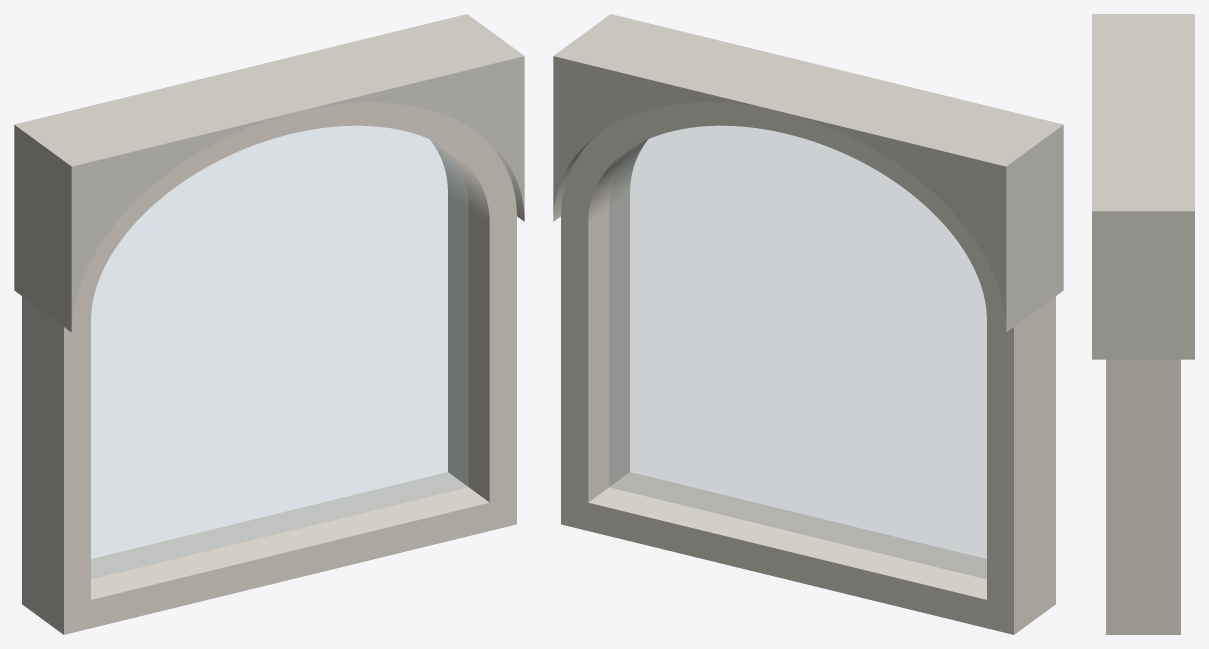
Rendered from arched_window_01.glb.
3 views of the same model, side by side, from view 1: azimuth 30°, elevation 25°; view 2: azimuth 150°, elevation 25°; view 3: azimuth 270°, elevation 25° (orthographic). The views are drawn at different scales.
Parts seen in each view (by area): view 1: Arched_glass, Arched_frame, Arch_wall_infill; view 2: Arched_glass, Arched_frame, Arch_wall_infill; view 3: Arch_wall_infill, Arched_frame.
Boxes of the visible parts, left/top/right/bottom form: Arched_glass: left=91, top=126, right=468, bottom=578; Arched_frame: left=22, top=102, right=516, bottom=634; Arch_wall_infill: left=14, top=14, right=524, bottom=331; Arched_glass: left=609, top=126, right=986, bottom=578; Arched_frame: left=561, top=102, right=1055, bottom=634; Arch_wall_infill: left=553, top=14, right=1063, bottom=331; Arch_wall_infill: left=1092, top=14, right=1194, bottom=359; Arched_frame: left=1106, top=359, right=1180, bottom=634.
Bounding box in the file's own units: 1 × 1 × 0.22.
